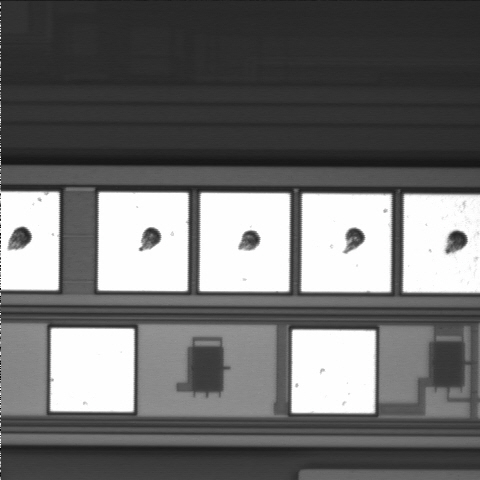pad: (98, 192, 188, 291), (200, 193, 290, 291), (301, 194, 391, 292), (51, 328, 134, 412), (292, 330, 375, 413)
